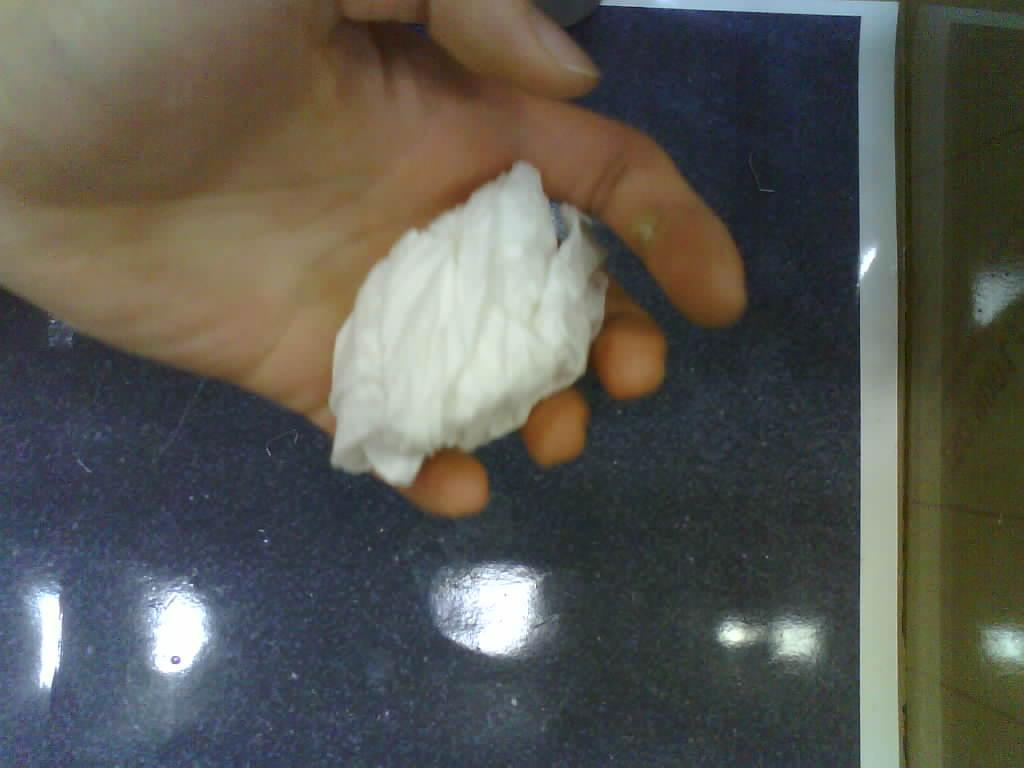paper: (330, 162, 608, 488)
